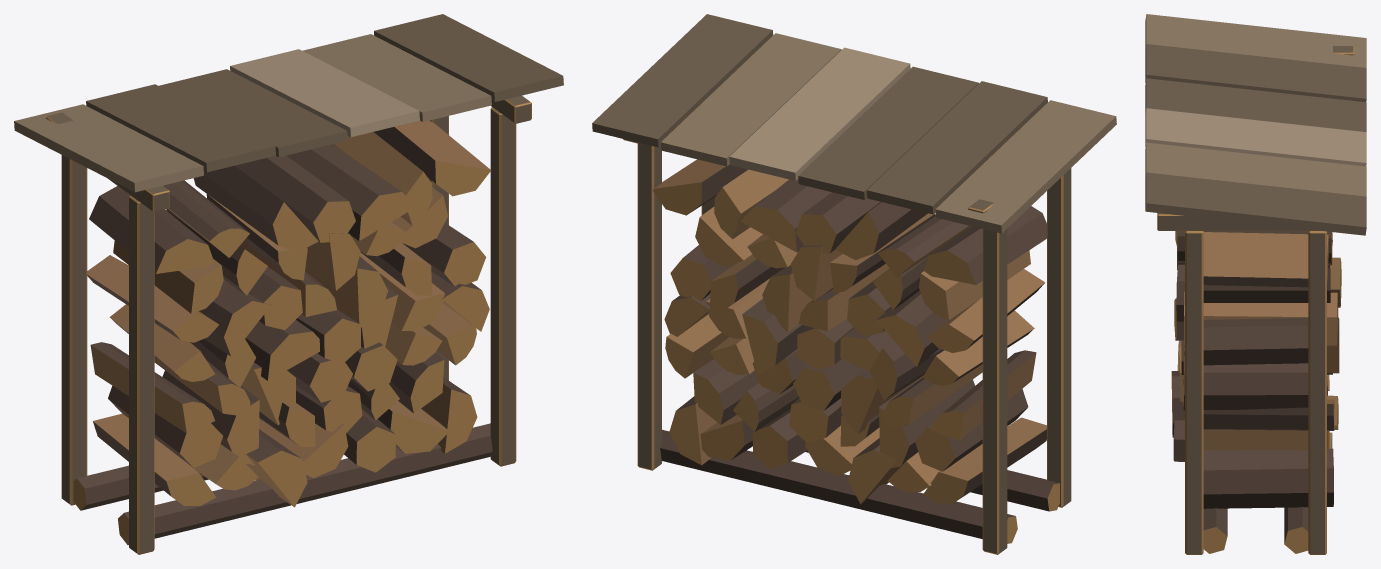
The model's file is firewood.glb.
3 renders of one model, left to right at view 1: azimuth 30°, elevation 25°; view 2: azimuth 150°, elevation 25°; view 3: azimuth 270°, elevation 25°, orthographic. The views are drawn at different scales.
Visible parts, largest first — view 1: Firewood; view 2: Firewood; view 3: Firewood.
Part boxes in pixels (x1,y1,x2,y2): Firewood: (14, 14, 563, 554); Firewood: (592, 14, 1116, 554); Firewood: (1145, 14, 1366, 554).
Size of the model in its own units: 1.47 by 1.3 by 0.7184.
